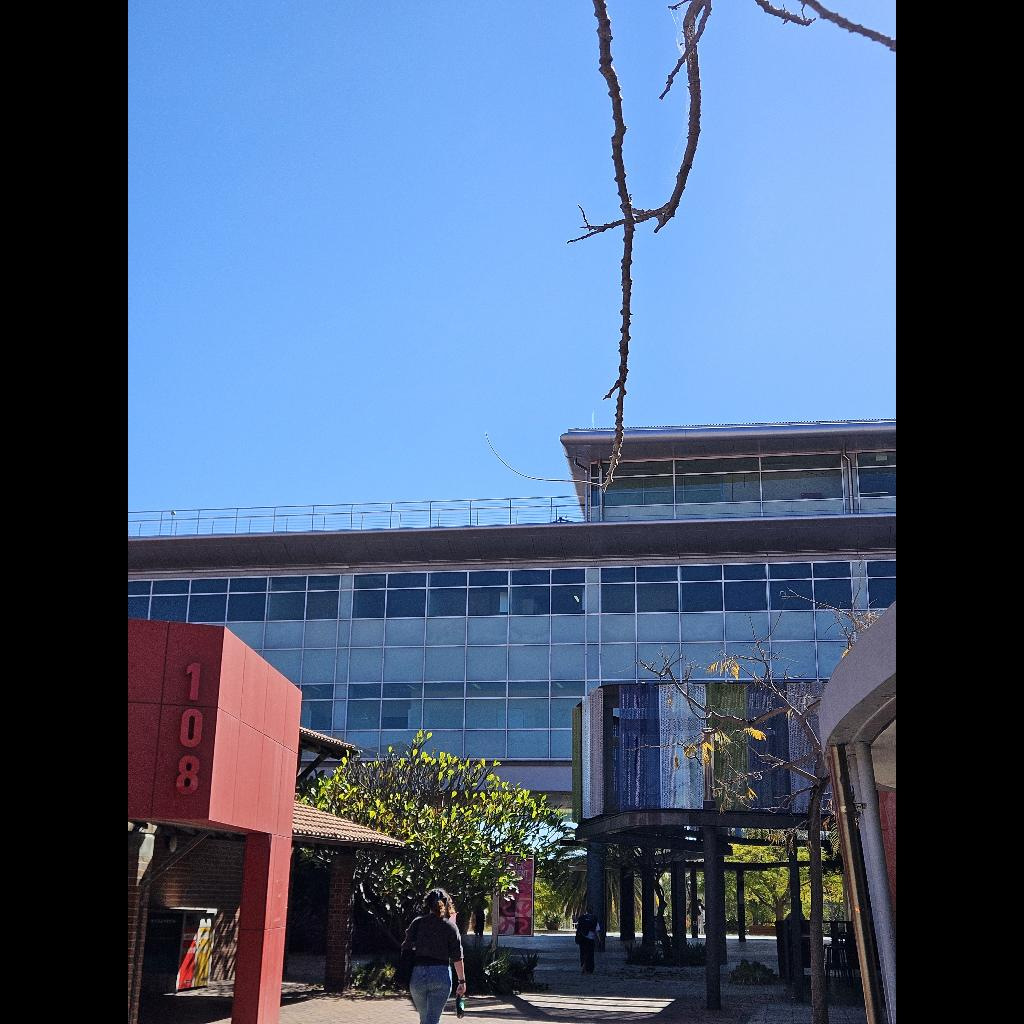BuildingCodes: (174, 662, 204, 796)
